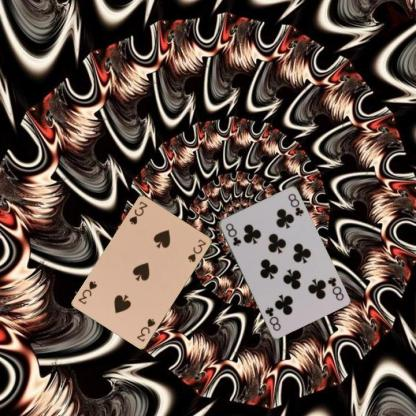3s: (134, 315, 157, 342), (126, 198, 148, 226)
8c: (325, 274, 344, 302), (223, 221, 242, 247)
